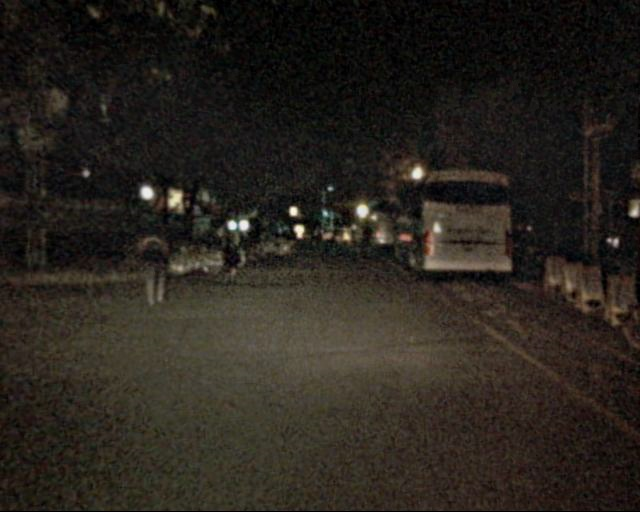person: (140, 217, 175, 303), (214, 218, 240, 281), (351, 224, 375, 261)
